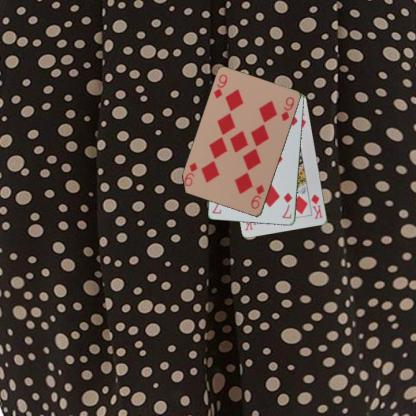7d: (280, 191, 294, 220)
9d: (248, 182, 266, 210), (211, 72, 229, 100)
Kd: (309, 192, 324, 220)
